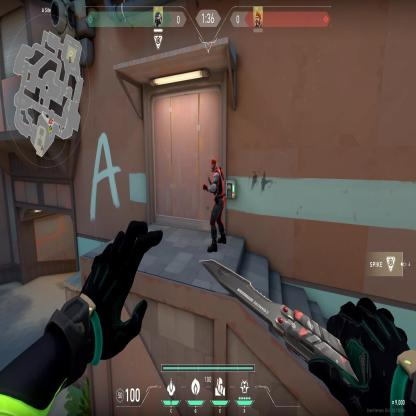enemy: (200, 156, 228, 256)
